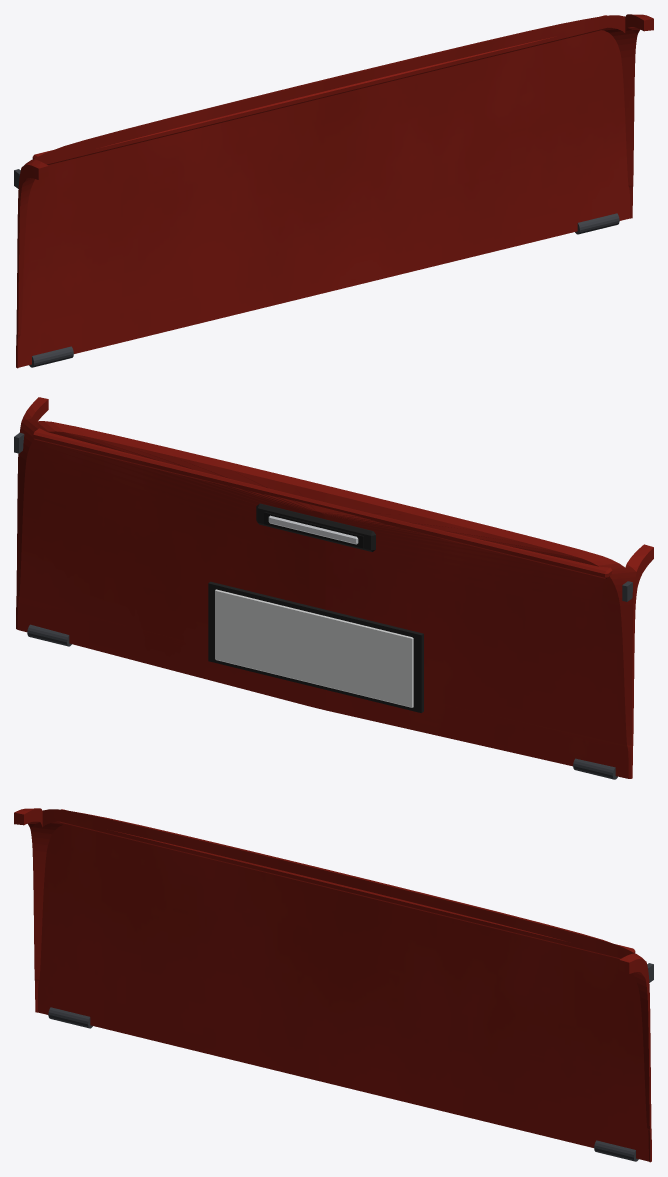
Rendered from tampa_cacamba.glb.
3 views of the same model, one above another, from view 1: azimuth 30°, elevation 25°; view 2: azimuth 150°, elevation 25°; view 3: azimuth 330°, elevation 25° (orthographic).
Visible parts, largest first — view 1: tampa_cacamba_pintura, tampa_cacamba_aco_escuro; view 2: tampa_cacamba_pintura, tampa_cacamba_placa, tampa_cacamba_plastico_preto, tampa_cacamba_aco_escuro, tampa_cacamba_cromado, tampa_cacamba_chassi; view 3: tampa_cacamba_pintura, tampa_cacamba_aco_escuro.
Boxes of the visible parts, x1,y1,x2,y2 form: tampa_cacamba_pintura: [16, 14, 653, 368]; tampa_cacamba_aco_escuro: [14, 169, 619, 367]; tampa_cacamba_pintura: [16, 397, 653, 778]; tampa_cacamba_placa: [215, 589, 413, 707]; tampa_cacamba_plastico_preto: [208, 503, 423, 712]; tampa_cacamba_aco_escuro: [14, 433, 632, 779]; tampa_cacamba_cromado: [268, 515, 358, 544]; tampa_cacamba_chassi: [264, 512, 363, 548]; tampa_cacamba_pintura: [14, 808, 651, 1162]; tampa_cacamba_aco_escuro: [48, 963, 653, 1161].
Size of the model in its own units: 1.24 by 0.4226 by 0.118.
Materials: 6 (1 with a texture image).
